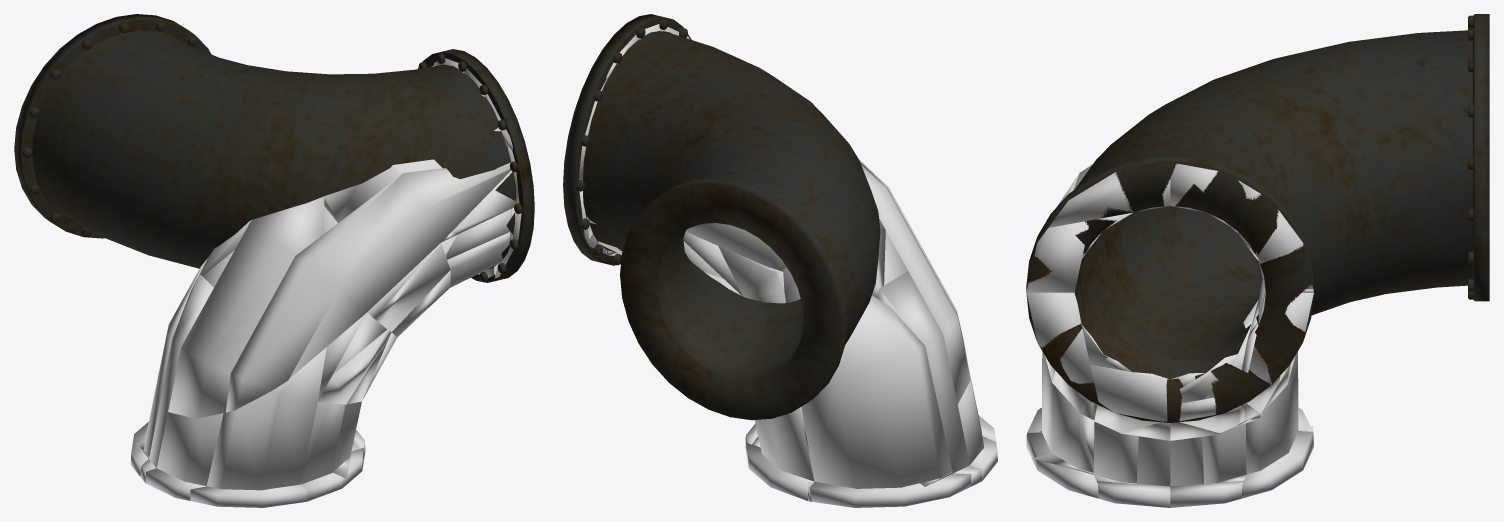
File: SM_Pipes_Medium_Elbow.fbx
3 views of the same model, side by side, from view 1: azimuth 30°, elevation 25°; view 2: azimuth 150°, elevation 25°; view 3: azimuth 270°, elevation 25° (orthographic). The views are drawn at different scales.
Parts seen in each view (by area): view 1: SM_Pipes_Medium_Elbow, SM_Pipes_Medium_Elbow_ConvexHulls; view 2: SM_Pipes_Medium_Elbow, SM_Pipes_Medium_Elbow_ConvexHulls; view 3: SM_Pipes_Medium_Elbow, SM_Pipes_Medium_Elbow_ConvexHulls.
Part boxes in pixels (x1=…): SM_Pipes_Medium_Elbow: x1=14, y1=14, x2=534, y2=282; SM_Pipes_Medium_Elbow_ConvexHulls: x1=130, y1=58, x2=521, y2=507; SM_Pipes_Medium_Elbow: x1=563, y1=14, x2=880, y2=420; SM_Pipes_Medium_Elbow_ConvexHulls: x1=578, y1=24, x2=997, y2=507; SM_Pipes_Medium_Elbow: x1=1026, y1=14, x2=1489, y2=422; SM_Pipes_Medium_Elbow_ConvexHulls: x1=1026, y1=163, x2=1313, y2=507.
Size of the model in its own units: 0.7251 by 0.7251 by 0.7251.
